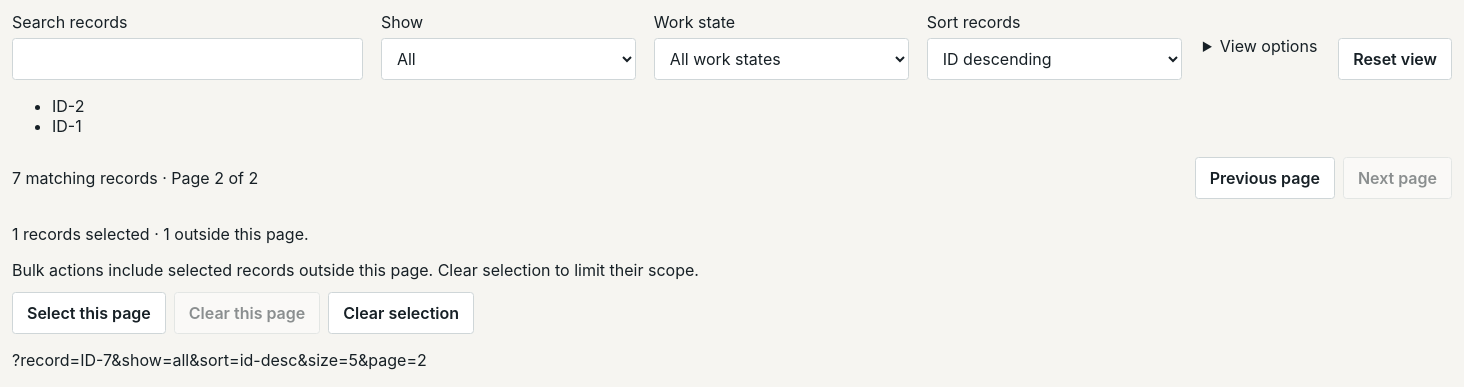
it: collection exploration controls › restores a direct URL and updates query without losing entity context
Expected: the dropdown labelled "Show" shows "All", [381,38,636,80]
Expected: the dropdown labelled "Sort records" shows "ID descending", [927,38,1182,80]
Step 1. Type "ID-2" into the field labelled "Search records" → (188, 59), box [12,38,363,80]
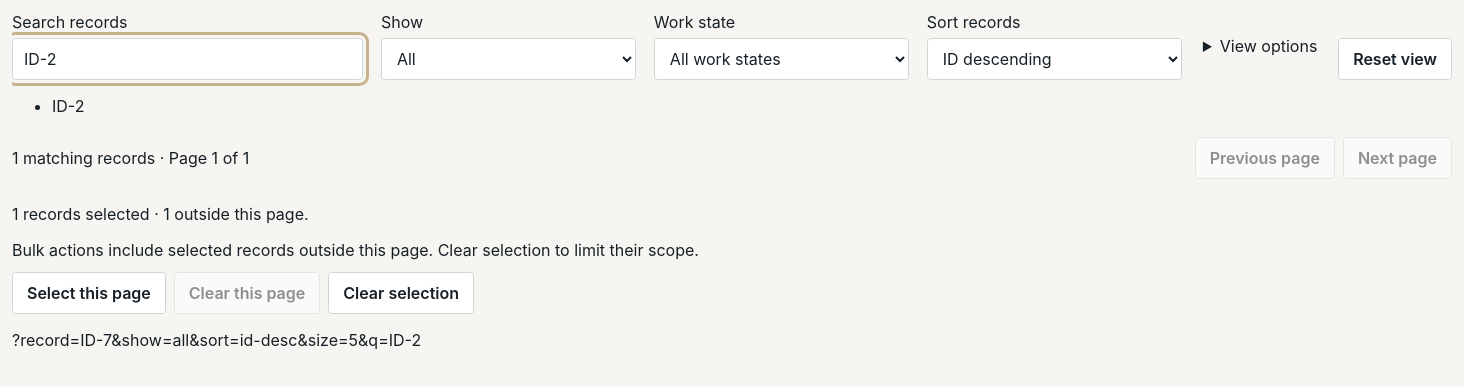
Expected: the list named "Visible records" reads "ID-2", [52,96,84,116]
Result: the text with test id "location" no longer shows "page=2" at [12,330,421,350]
